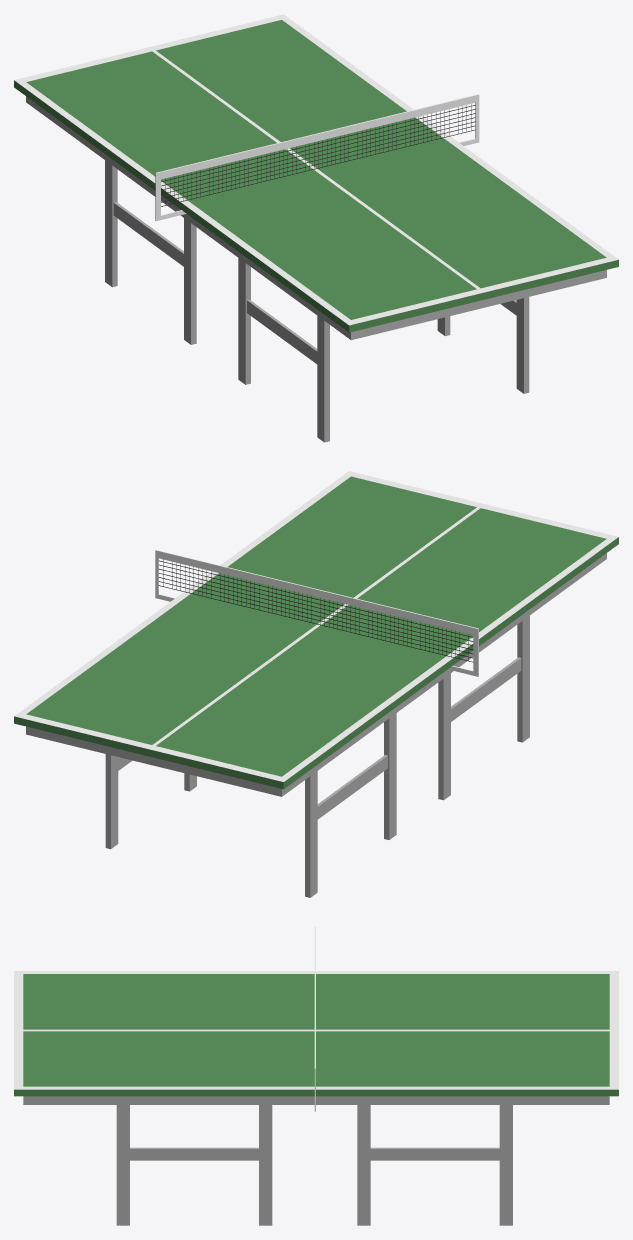
Rendered from table-tennis-table.glb.
3 views of the same model, one above another, from view 1: azimuth 30°, elevation 25°; view 2: azimuth 150°, elevation 25°; view 3: azimuth 270°, elevation 25° (orthographic). The views are drawn at different scales.
Parts seen in each view (by area): view 1: table-tennis-table; view 2: table-tennis-table; view 3: table-tennis-table.
Boxes of the visible parts, bbox=[...] form: table-tennis-table: bbox=[14, 14, 618, 442]; table-tennis-table: bbox=[14, 471, 618, 897]; table-tennis-table: bbox=[14, 926, 618, 1225].
Size of the model in its own units: 1.52 by 0.9169 by 2.74.
1 material, 1 textured.
